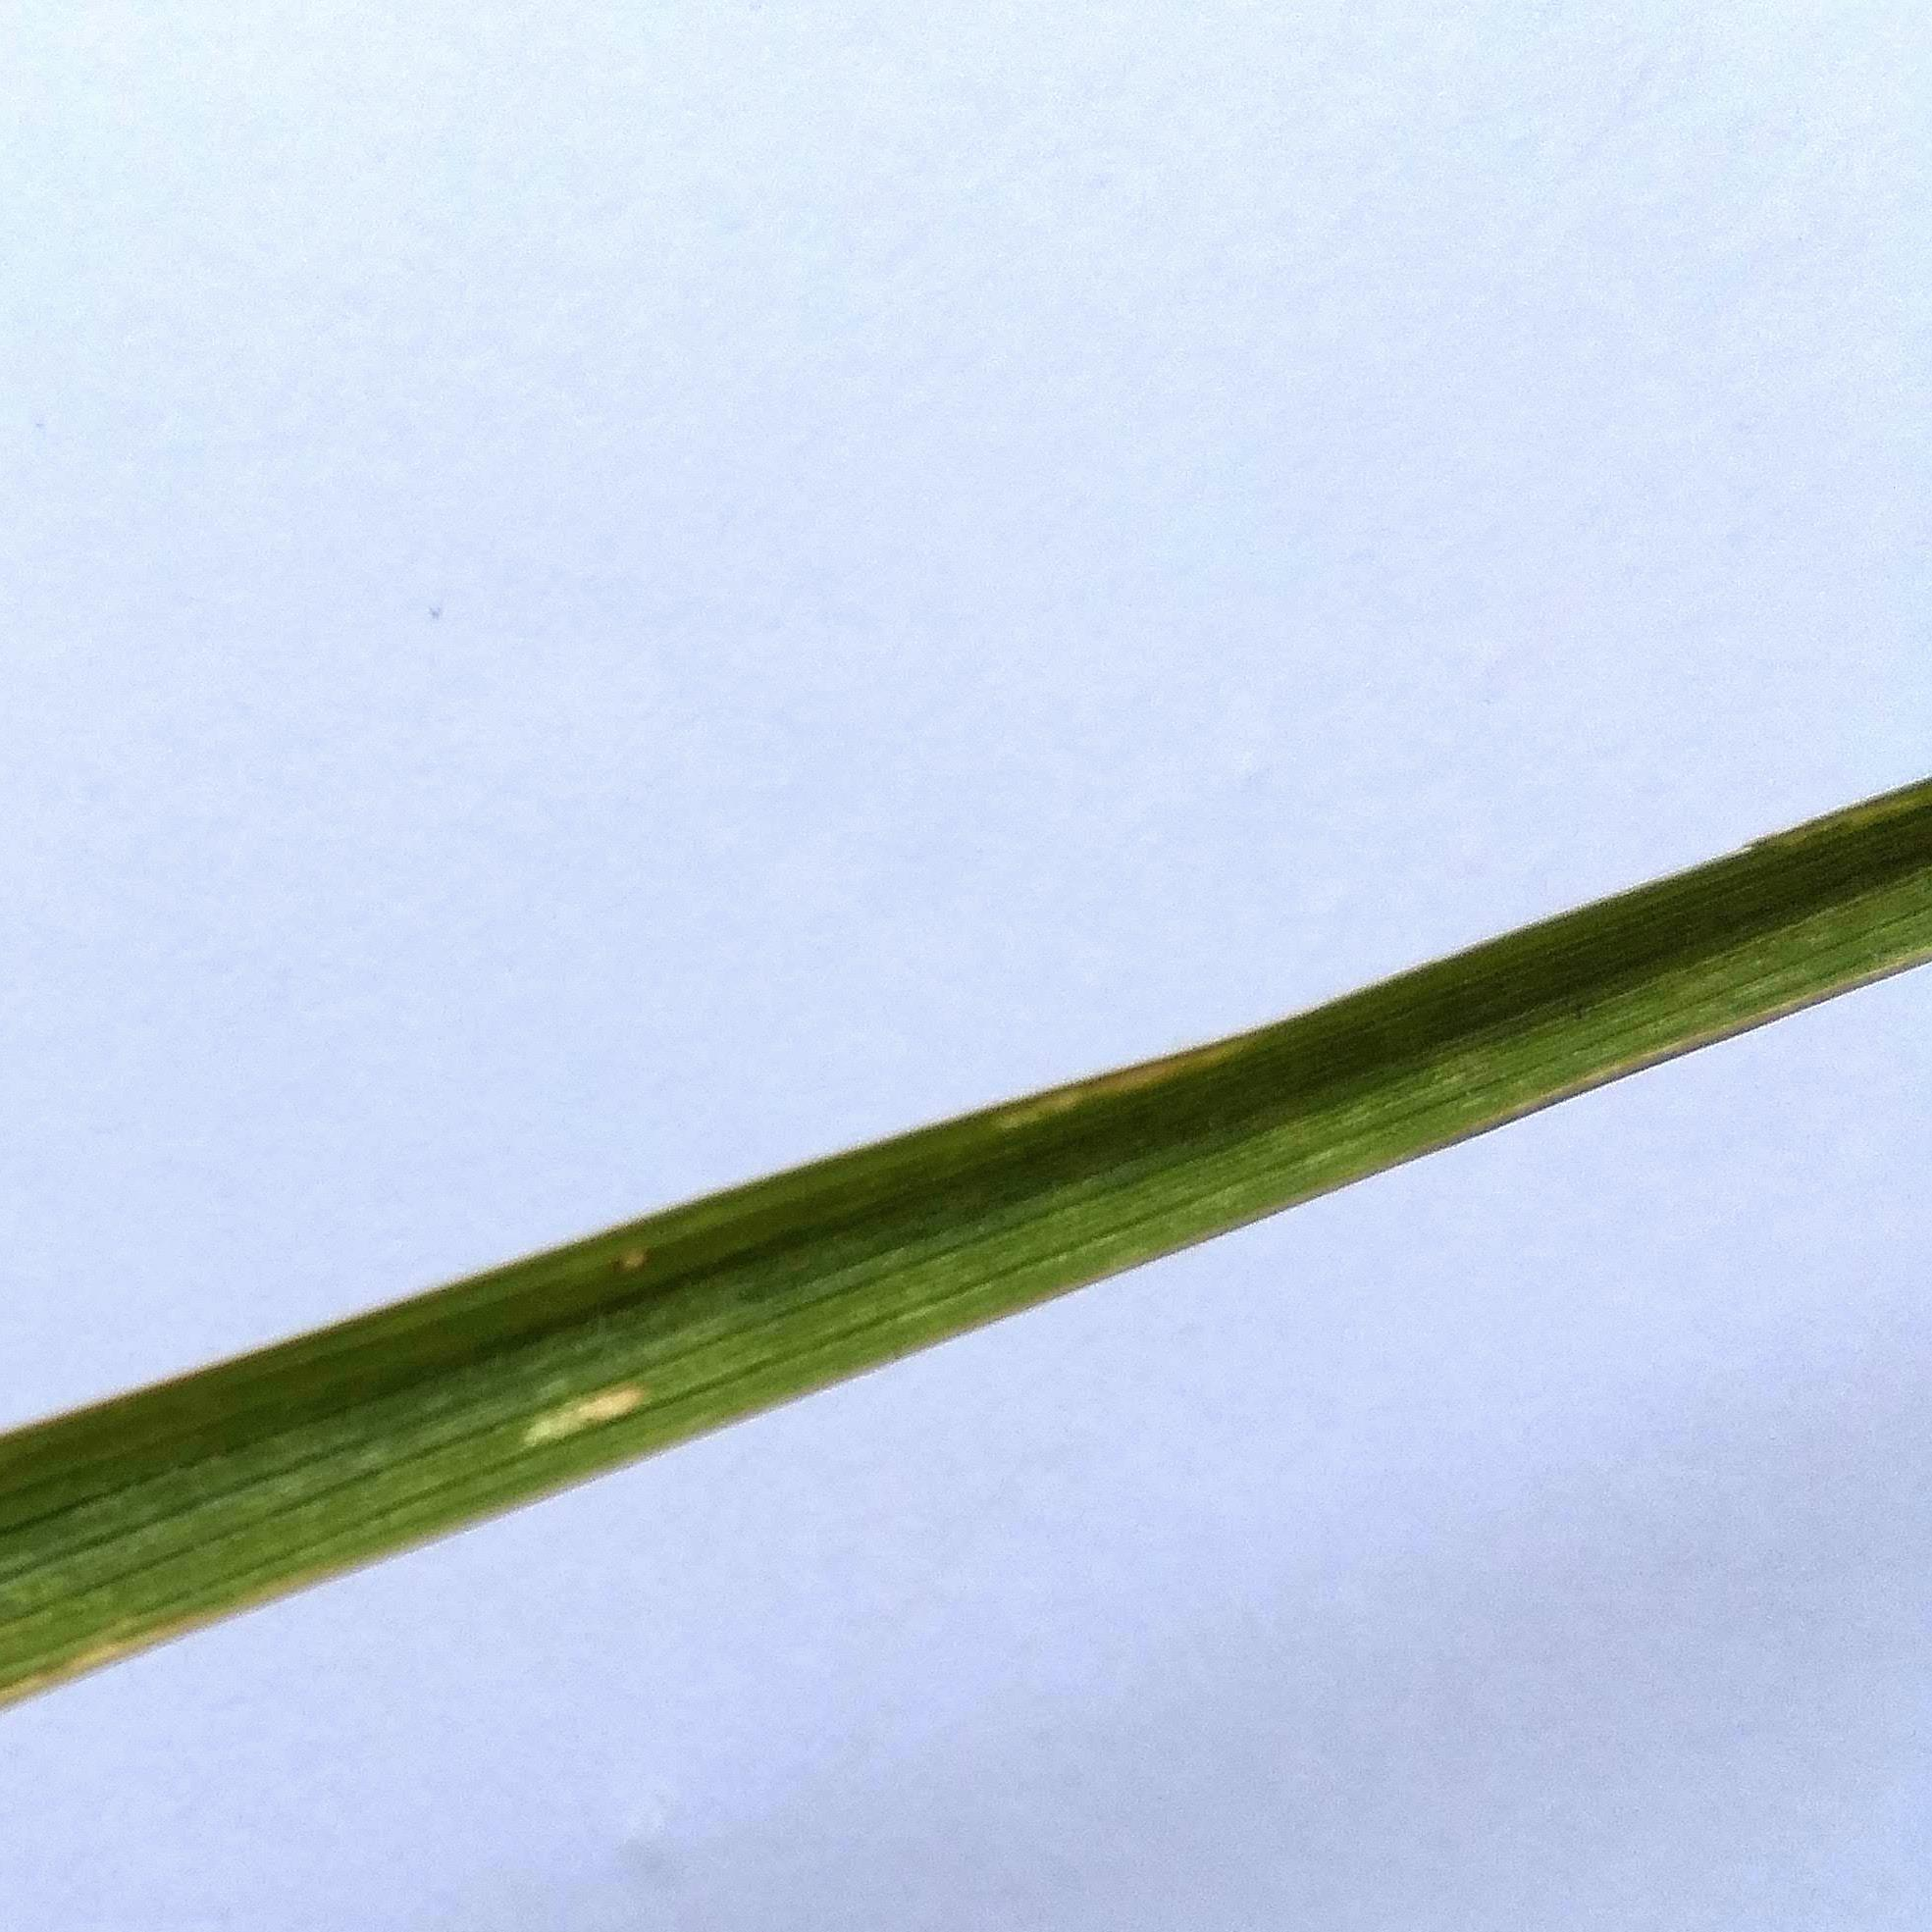1 RiceBlast: (506, 1375, 649, 1442)
